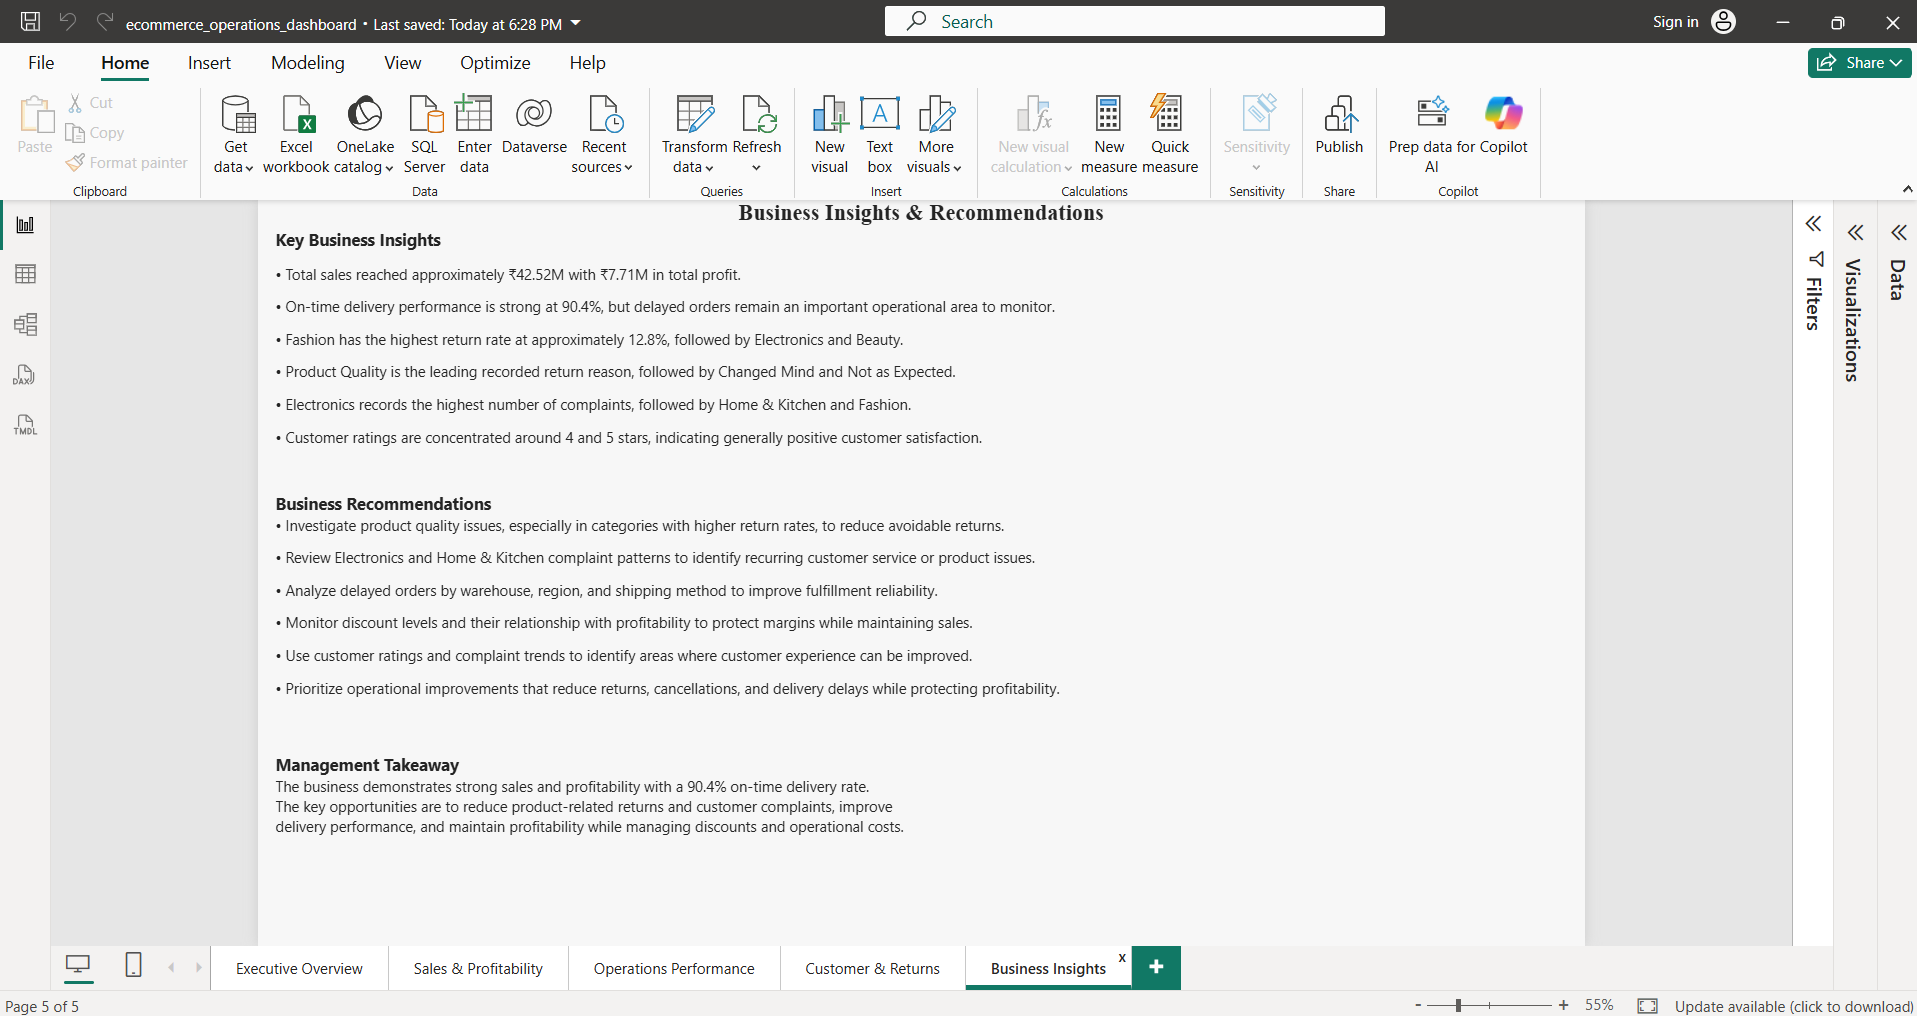

What the dashboard file says about the page in this screenshot:
{"tool":"powerbi","page":{"name":"Business Insights","canvas":[1920,1080],"ordinal":4},"visuals":[{"type":"textbox","box":[0,0,1920.1,41.6],"z":0},{"type":"textbox","box":[25.3,41.6,1894.7,381.8],"z":1},{"type":"textbox","box":[25.3,423.5,1894.7,378.2],"z":2},{"type":"textbox","box":[25.3,801.7,1894.7,278.7],"z":3}]}

Visuals, with their boxes on the page's 1920x1080 design canvas (x1, y1, x2, y2). These are canvas units, not pixel positions in the 1917x1016 screenshot, which may show the page scaled, cropped or inside an application window:
textbox: rect(0, 0, 1920, 42)
textbox: rect(25, 42, 1920, 423)
textbox: rect(25, 424, 1920, 802)
textbox: rect(25, 802, 1920, 1080)
